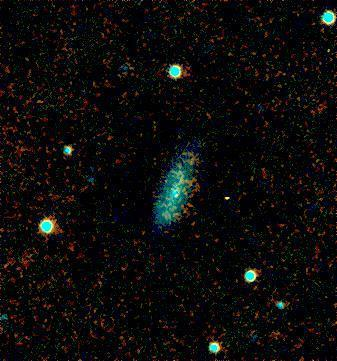star: (211, 186, 241, 216)
